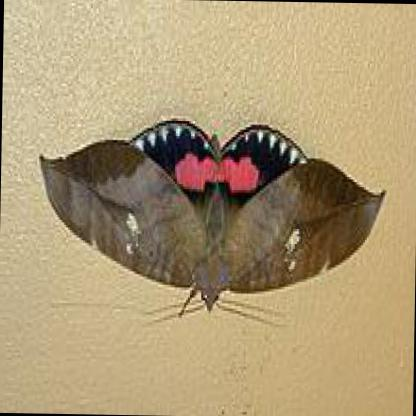fruit sucking moth: (40, 119, 384, 314)
